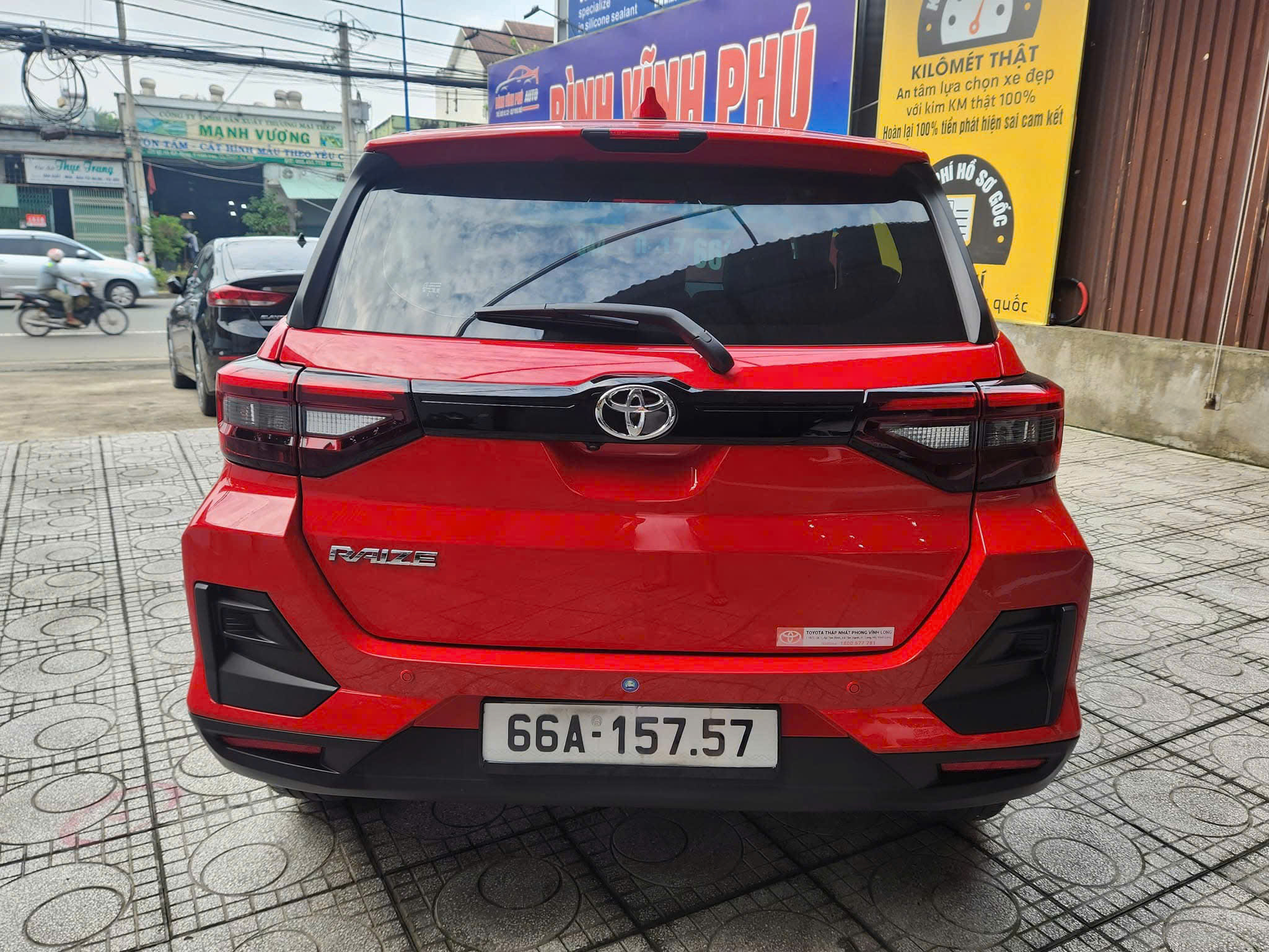Bien-so: (482, 701, 788, 766)
